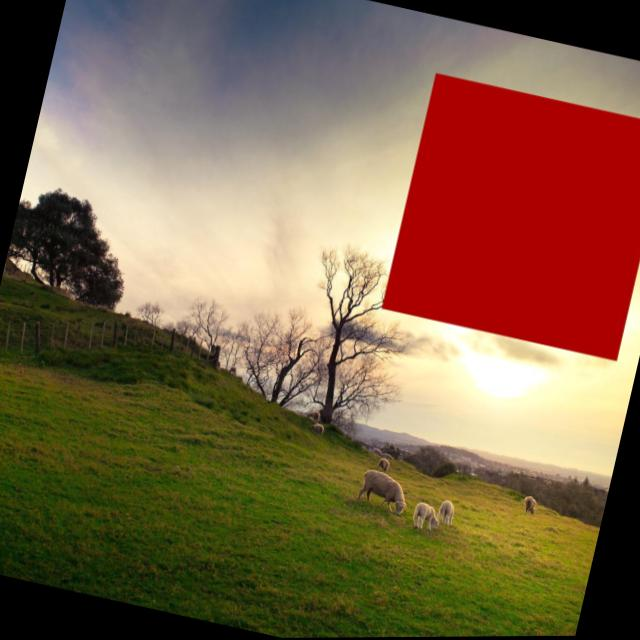RedSquare: (373, 63, 640, 371)
